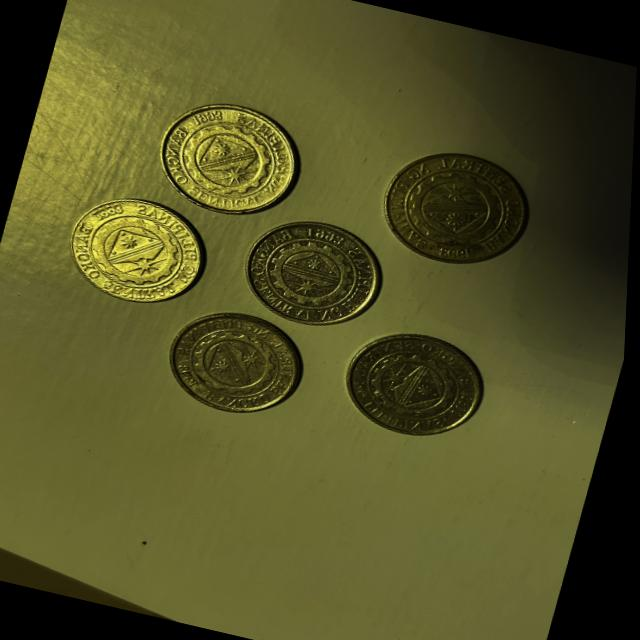1_Old_Back: (391, 155, 523, 262), (162, 108, 293, 211), (72, 197, 201, 300), (354, 338, 479, 430), (254, 226, 371, 320), (181, 318, 295, 408)
